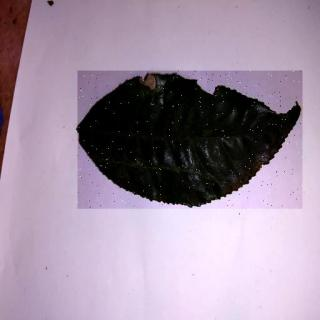Anthracnose: (79, 72, 305, 210)
